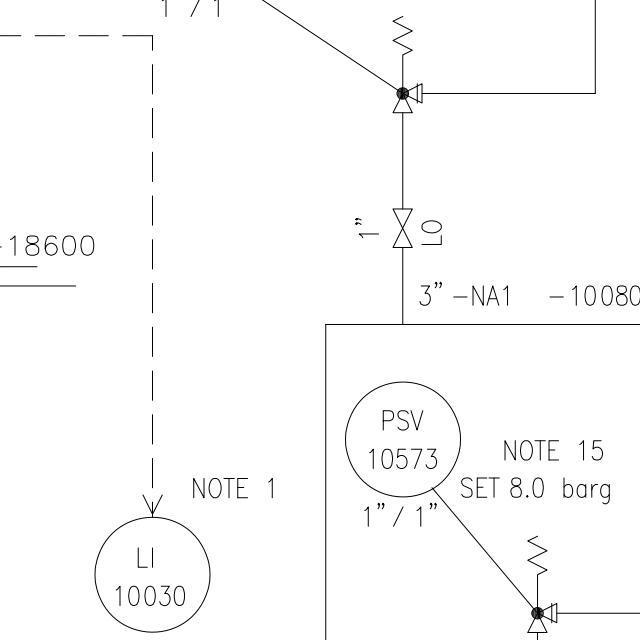GV: (388, 203, 417, 252)
RPV: (520, 528, 561, 636), (388, 9, 427, 121)
